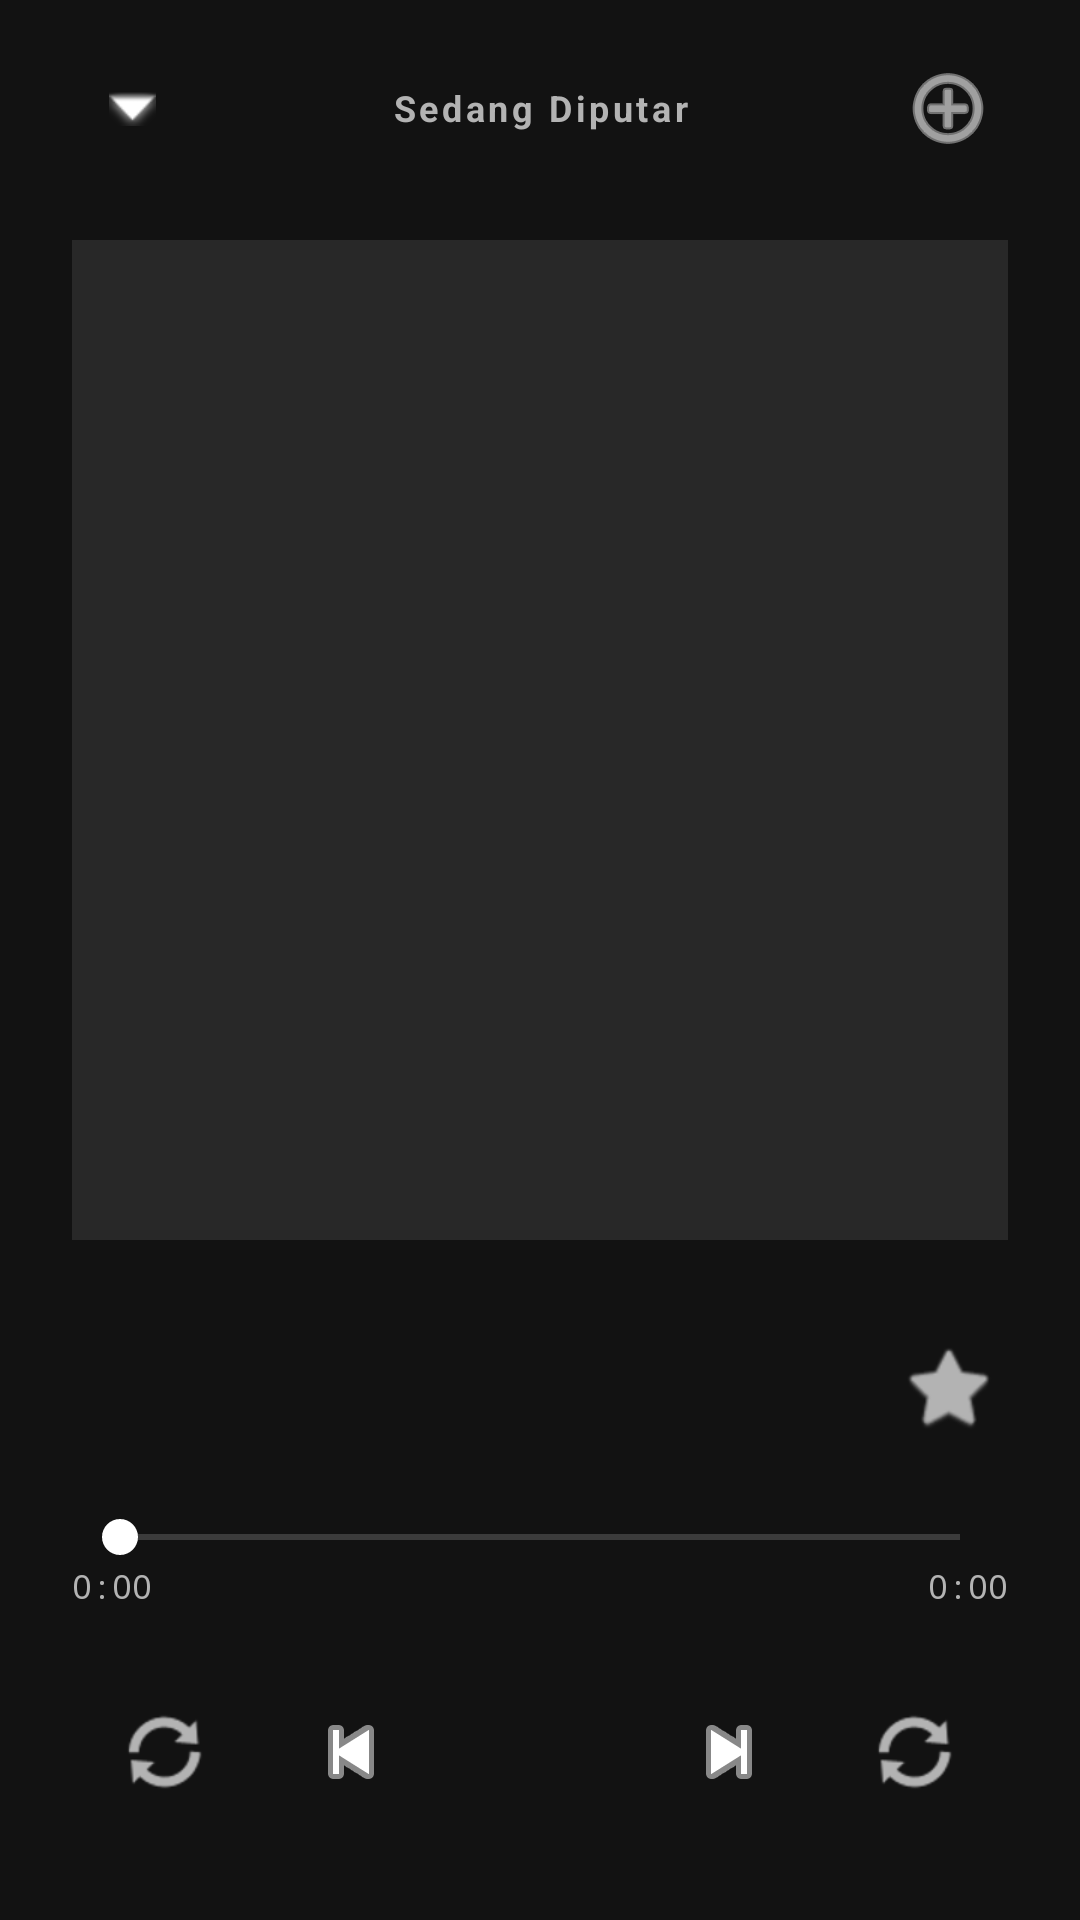

Locate icon controls on the screen. Image size 1080 × 1920, boxes as (x1=x1, y1=y1, x2=x2, y2=y2).
Add to playlist: (x1=912, y1=73, x2=984, y2=144)
Close: (x1=109, y1=93, x2=156, y2=125)
Like: (x1=909, y1=1349, x2=989, y2=1426)
Next: (x1=706, y1=1725, x2=752, y2=1779)
Previous: (x1=328, y1=1725, x2=374, y2=1779)
Repeat: (x1=878, y1=1716, x2=951, y2=1788)
